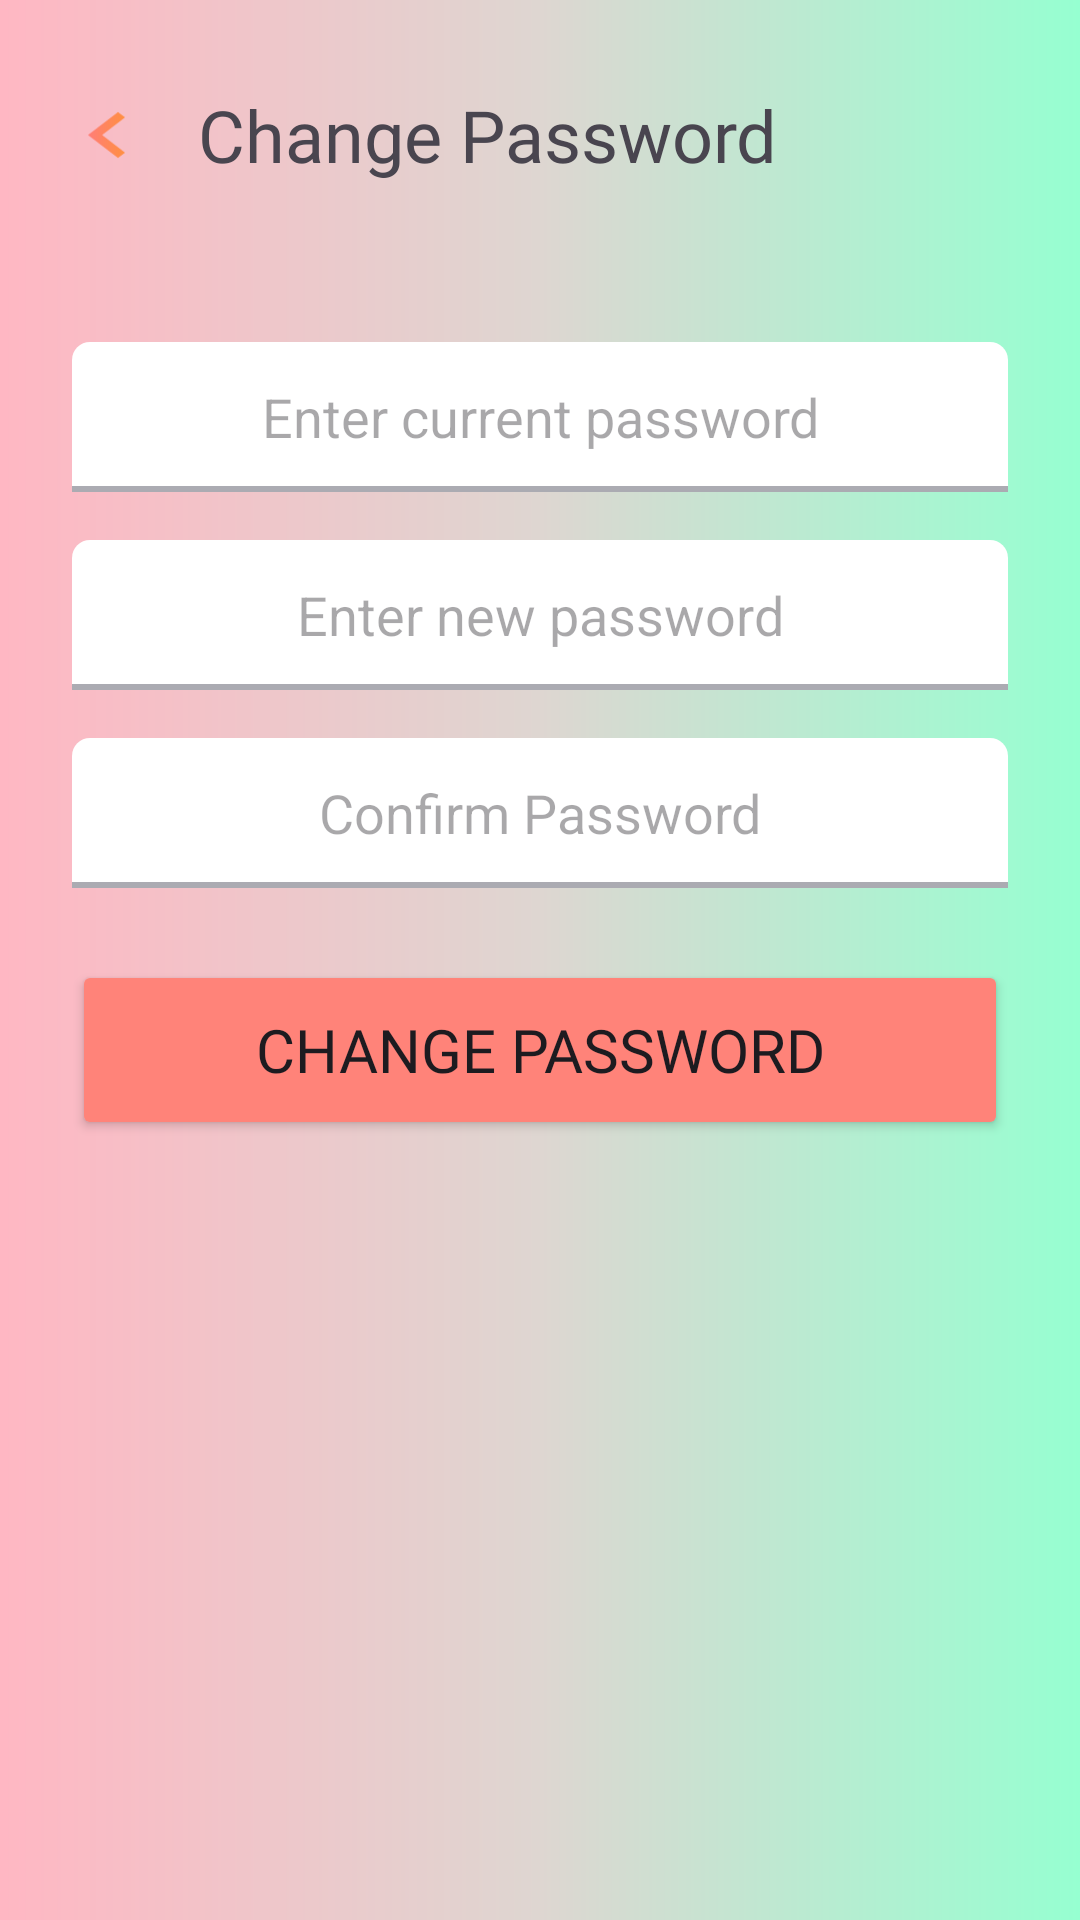

Icon bounding boxes for this 1080w x 1920h phone screenshot, format (x1, y1, x2, y2):
arrow left: (88, 112, 125, 158)
